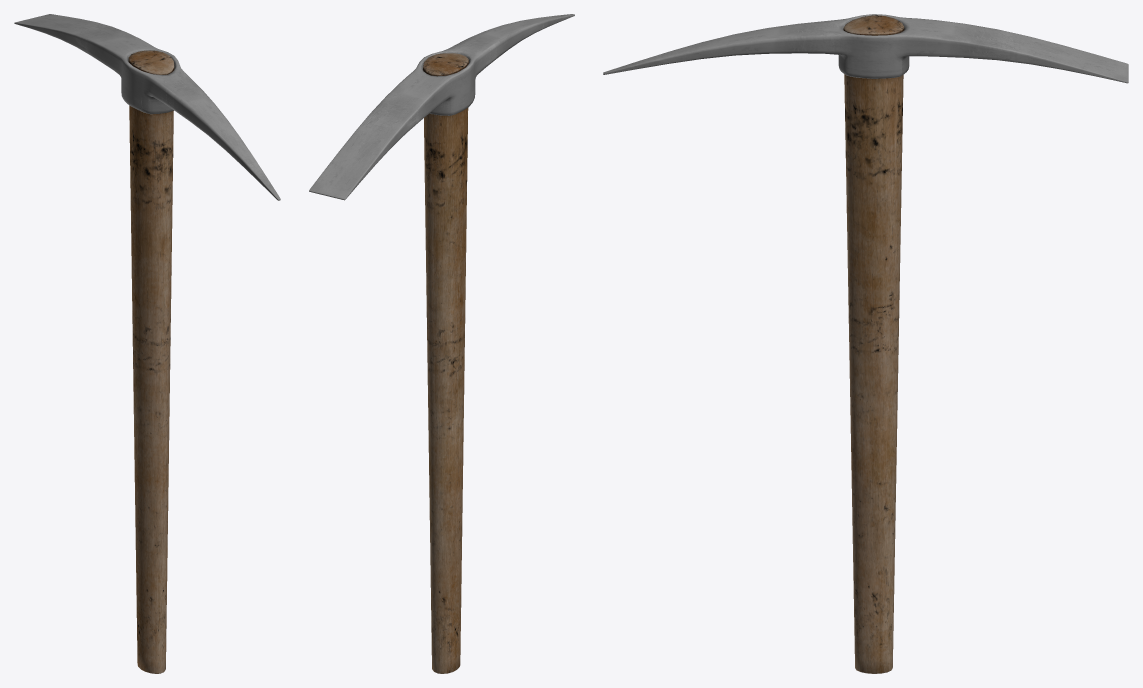
Rendered from pico.glb.
The picture shows the model from 3 angles, left to right: view 1: azimuth 30°, elevation 25°; view 2: azimuth 150°, elevation 25°; view 3: azimuth 270°, elevation 25°; orthographic projection. The views are drawn at different scales.
Parts seen in each view (by area): view 1: Object_3, Object_2; view 2: Object_3, Object_2; view 3: Object_3, Object_2.
Part boxes in pixels (left/top/right/bottom): Object_3: left=128, top=50, right=174, bottom=673; Object_2: left=14, top=14, right=280, bottom=200; Object_3: left=423, top=53, right=468, bottom=673; Object_2: left=309, top=14, right=574, bottom=200; Object_3: left=843, top=15, right=904, bottom=673; Object_2: left=603, top=14, right=1128, bottom=83.
Size of the model in its own units: 0.4284 by 5.47 by 4.04.
Materials: 2 (2 with a texture image).
